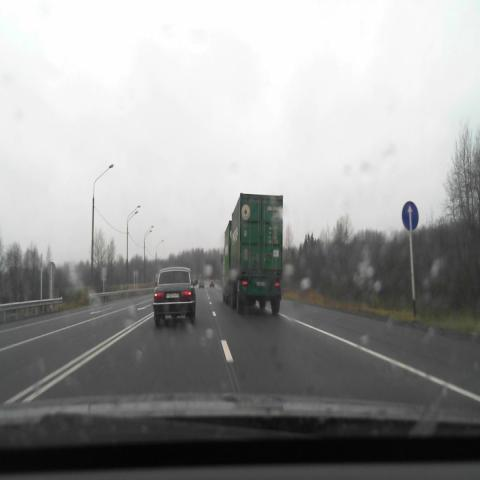4_1_1: (401, 200, 419, 231)
